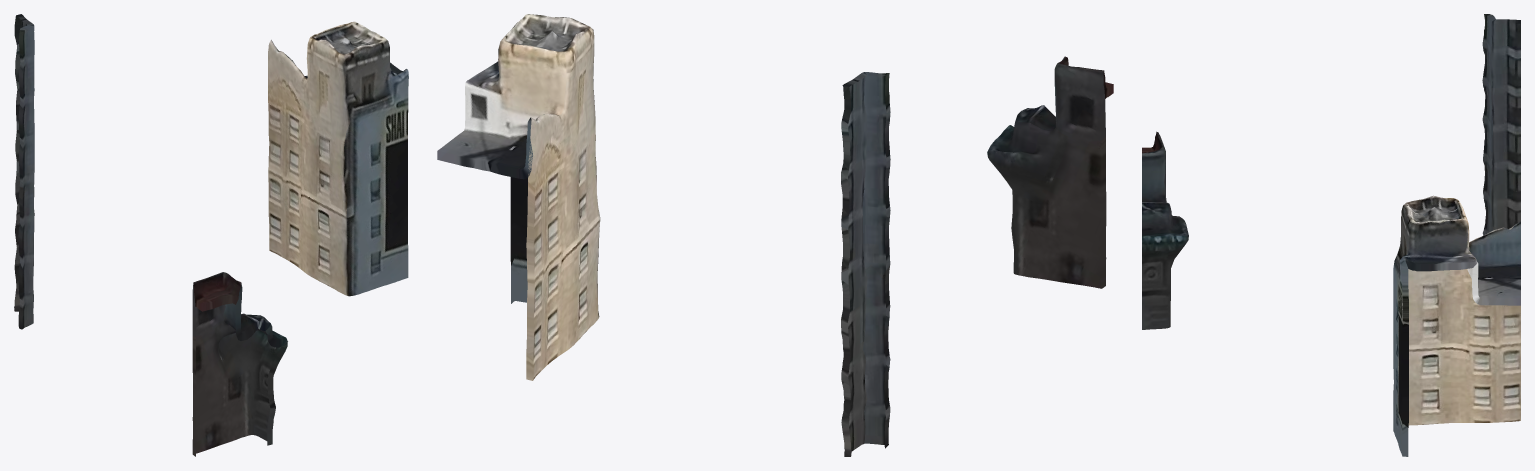
Rendered from z20-167745-405247-h1-yup-uvflip-v3-world.glb.
3 views of the same model, side by side, from view 1: azimuth 30°, elevation 25°; view 2: azimuth 150°, elevation 25°; view 3: azimuth 270°, elevation 25° (orthographic). The views are drawn at different scales.
Bounding box in the file's own units: 30.16 × 25.08 × 30.32.
1 material, 1 textured.
